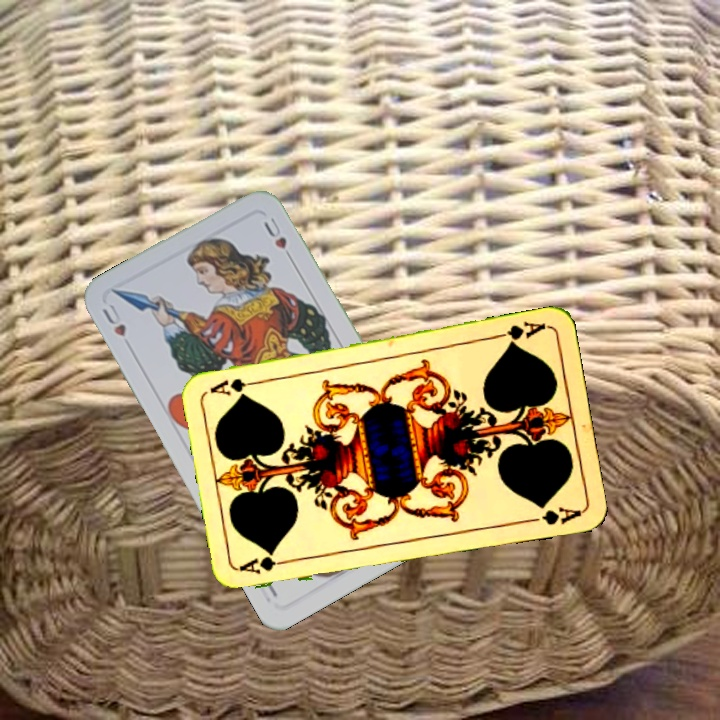GA: (490, 317, 548, 348), (236, 551, 295, 577)
HU: (98, 299, 129, 340)
